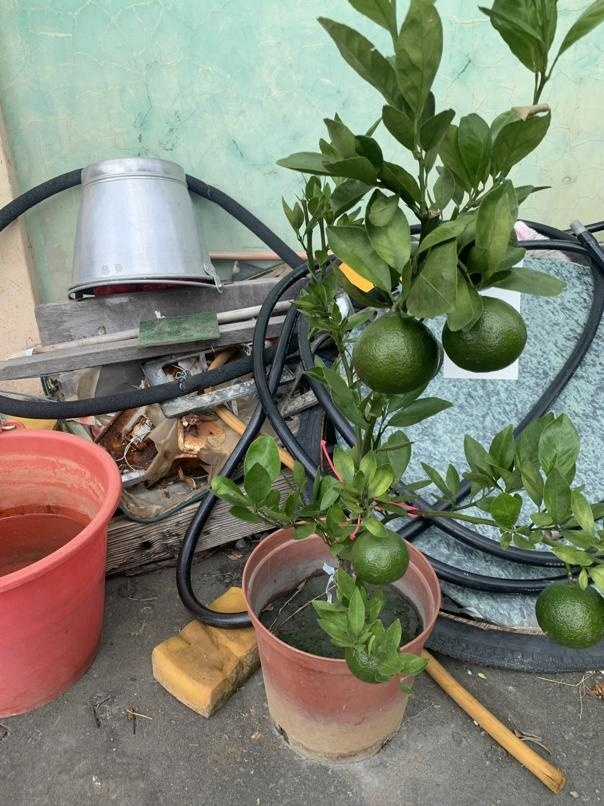Tangerine: (349, 308, 440, 398), (443, 299, 527, 375), (534, 577, 604, 649), (346, 523, 411, 587)
